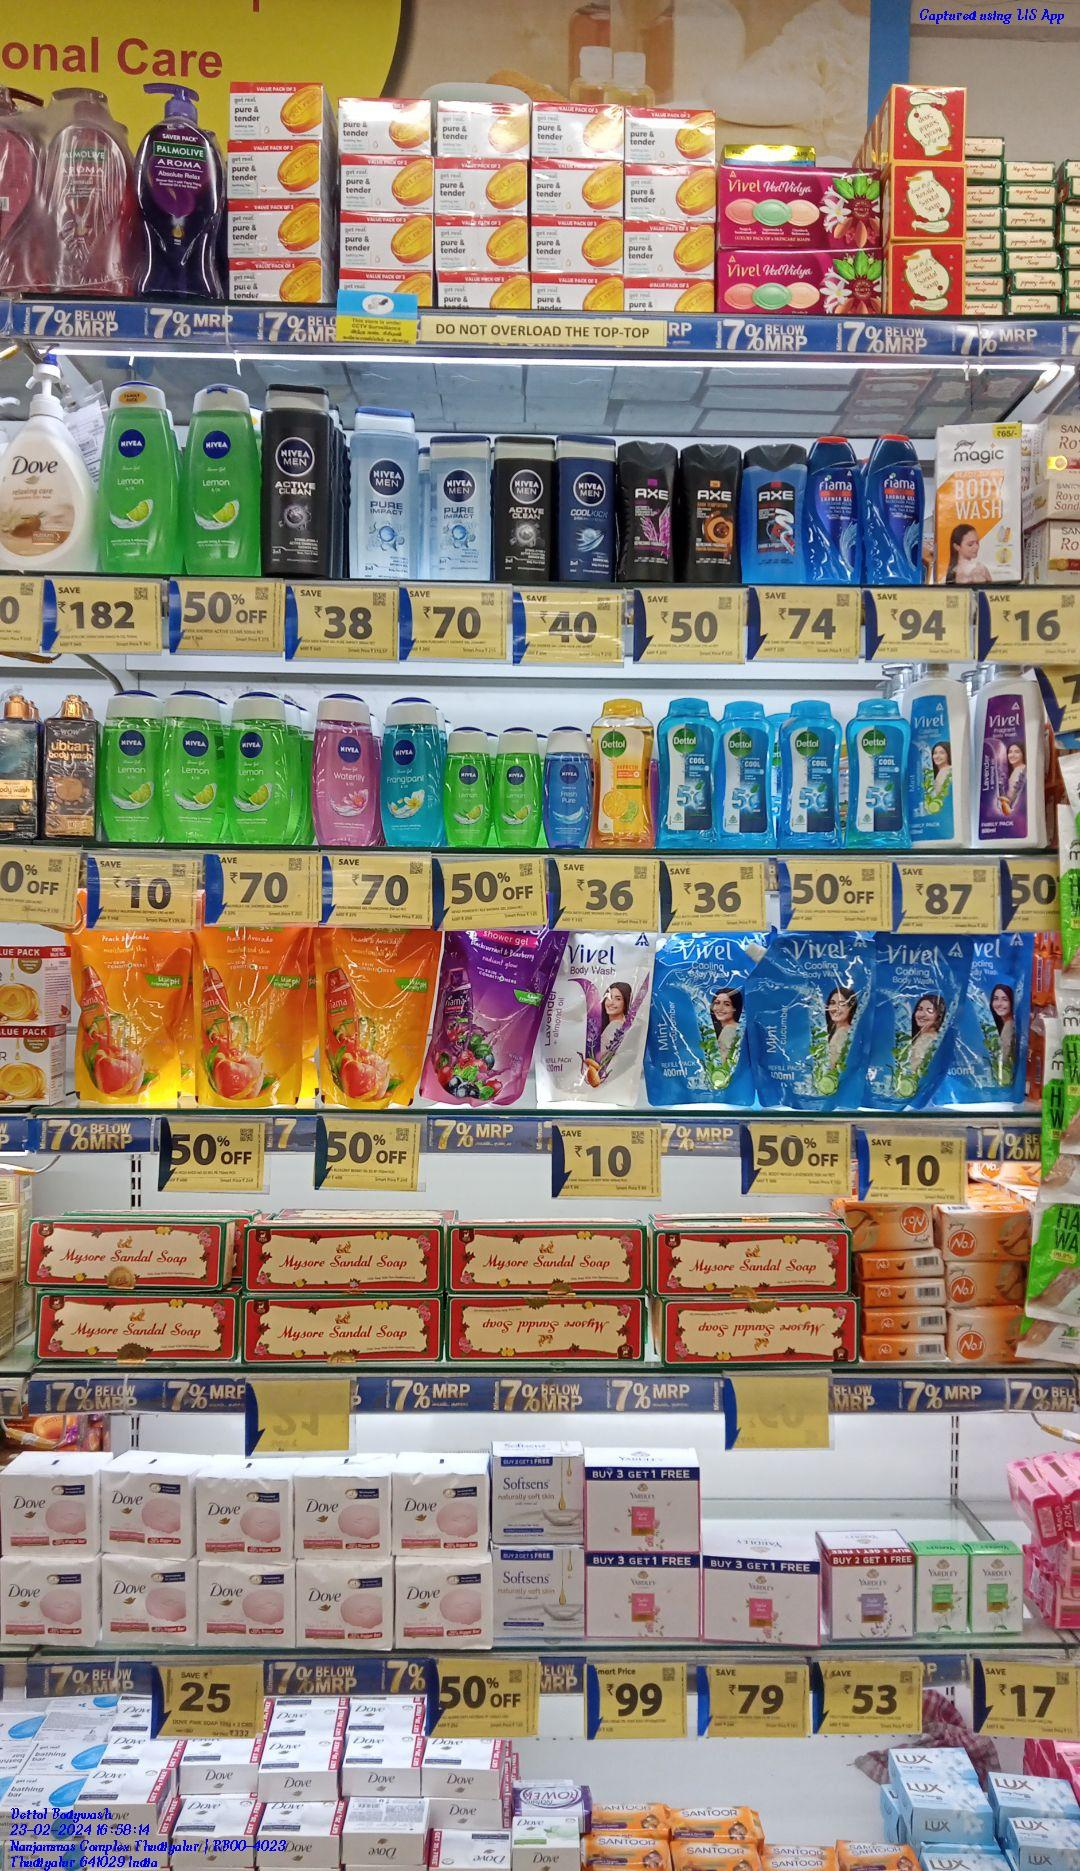Dettol_Bodywash_Cool: (656, 698, 723, 848), (847, 699, 910, 848), (780, 702, 843, 849), (723, 704, 777, 847)
Dettol_Bodywash_Refresh: (593, 702, 654, 849)
Nivea_Shower_Gel_Frangipani_and_Oil_250ML: (377, 705, 447, 847)
Nivea_Shower_Gel_Lemon_and_Oil_250ML: (181, 387, 260, 574), (99, 383, 175, 573), (226, 698, 292, 844), (163, 695, 222, 844), (102, 694, 161, 842), (495, 731, 541, 847), (450, 730, 492, 849)
Nivea_Shower_Gel_Waterlily_and_Oil_250ML: (314, 698, 374, 846)
